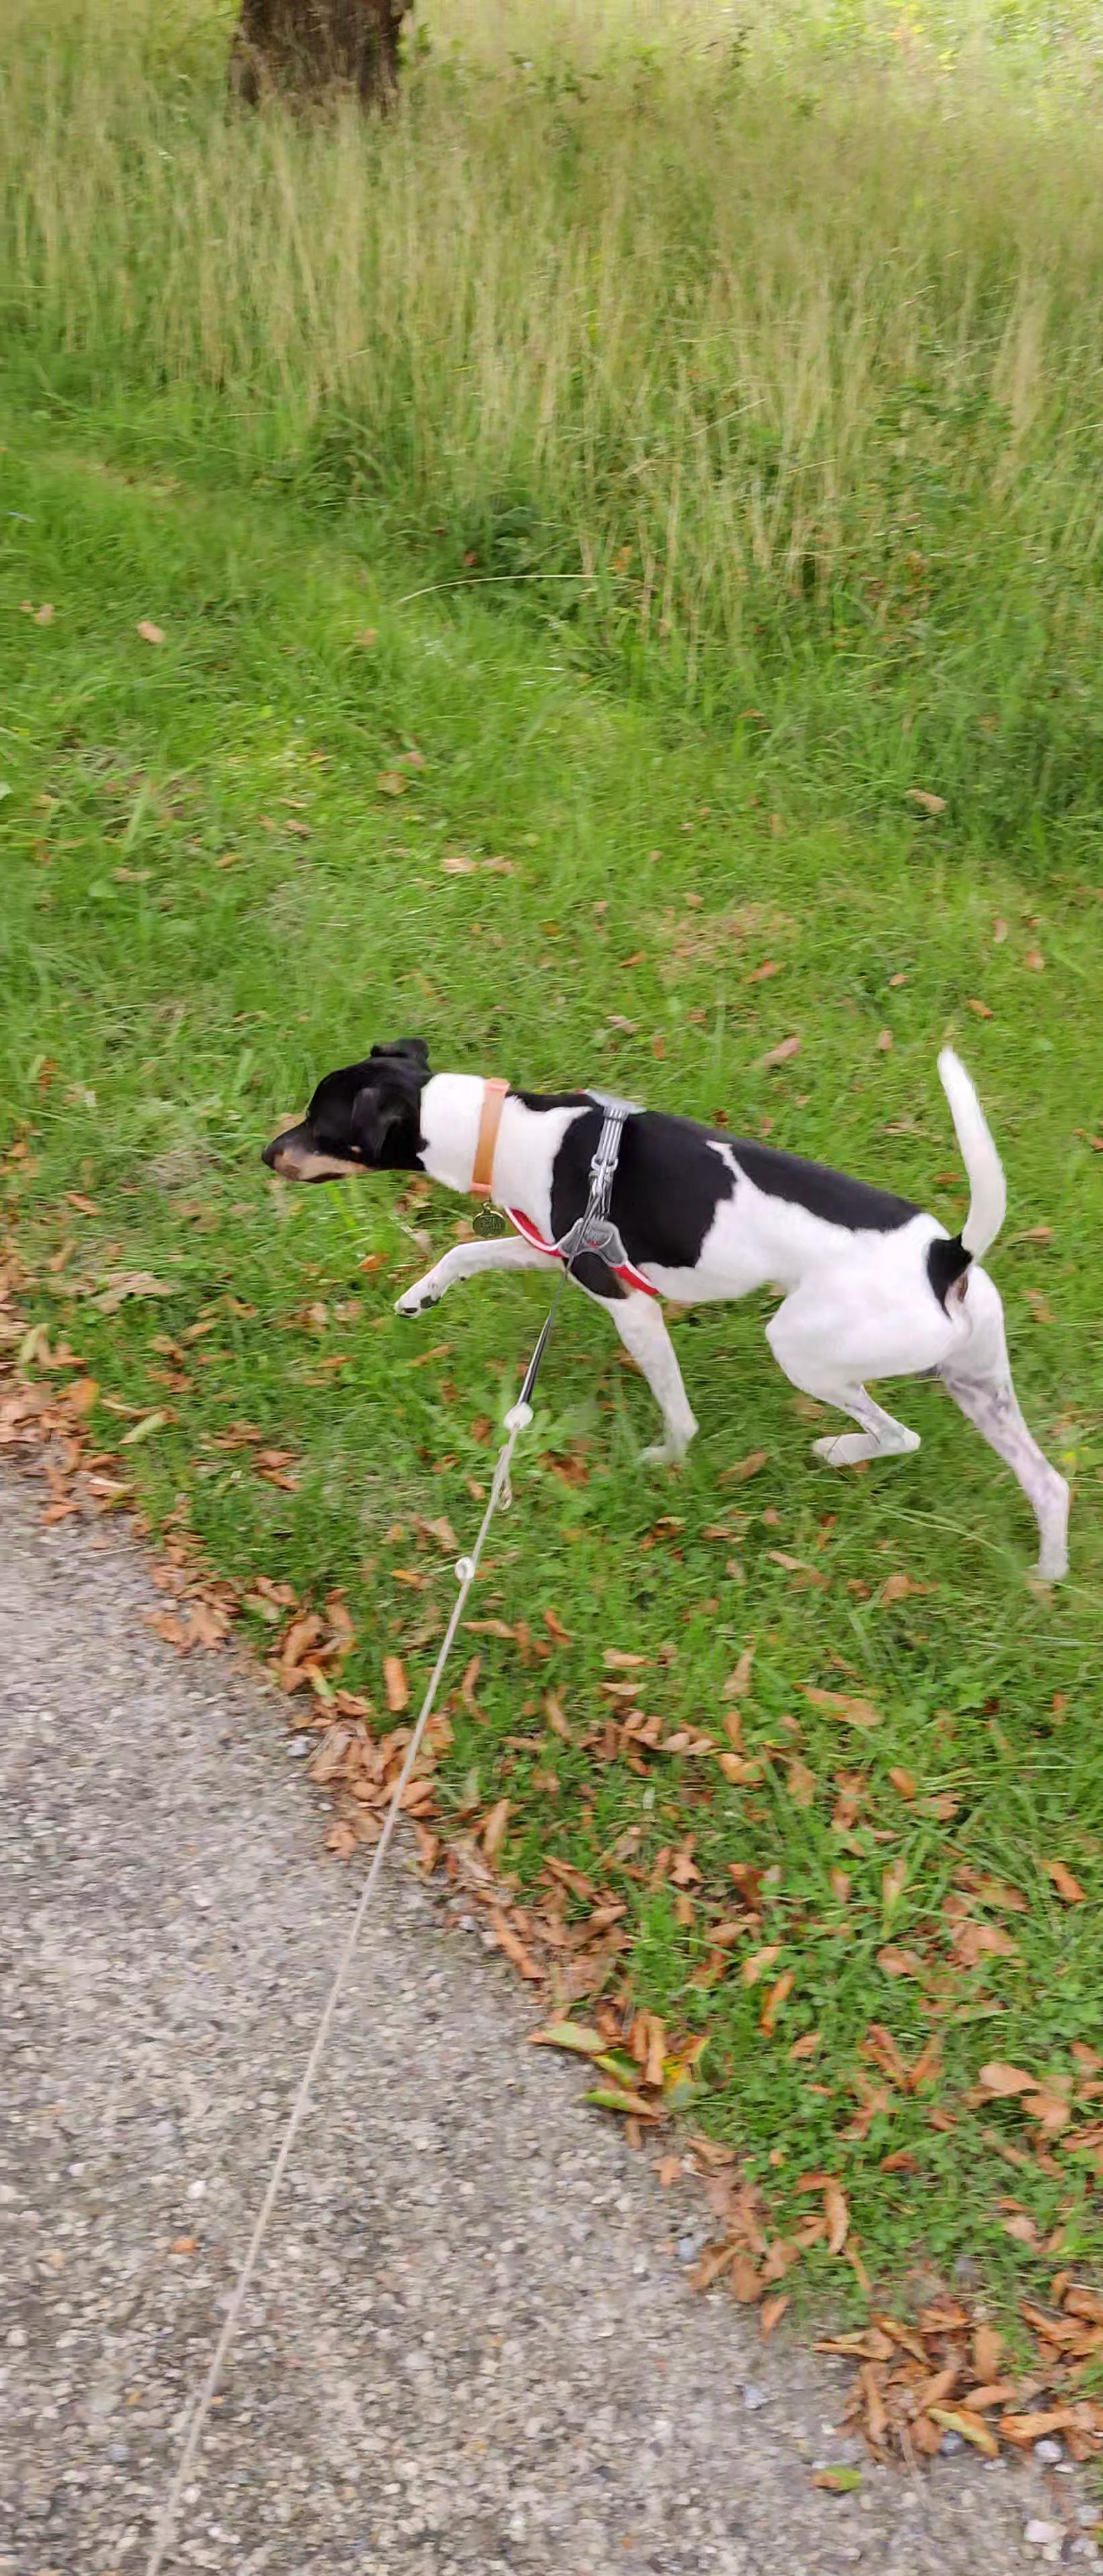Dog: (255, 1037, 1075, 1589)
